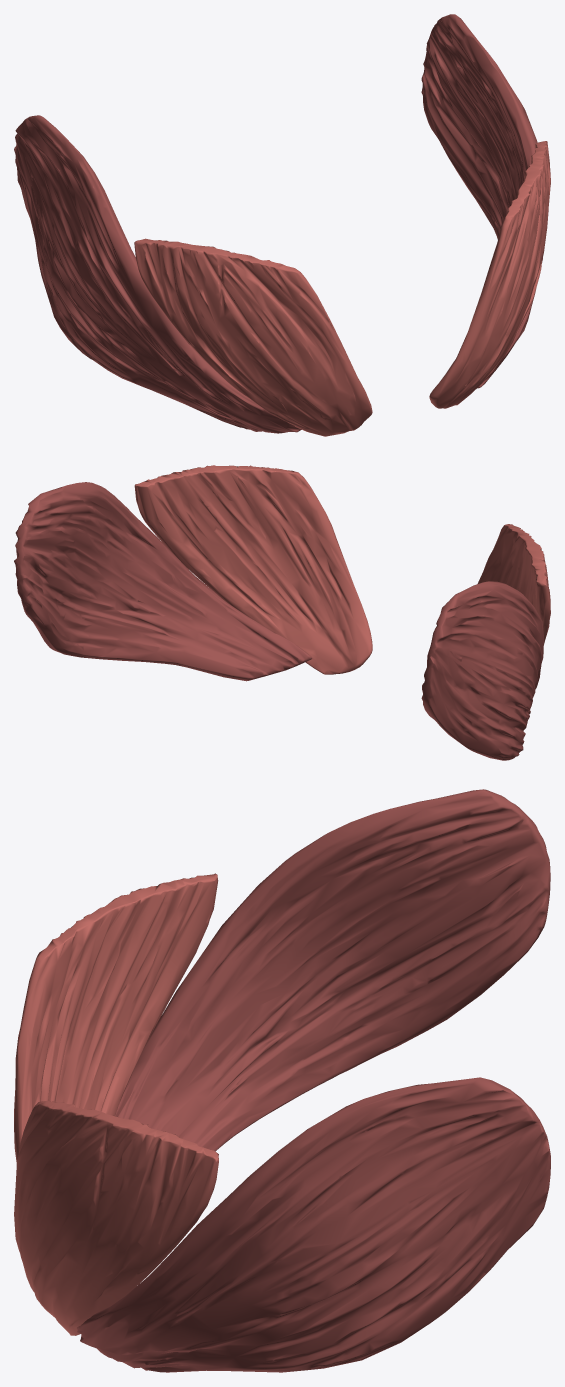
File: cricothyroid.glb
The picture shows the model from 3 angles, top to bottom: view 1: azimuth 30°, elevation 25°; view 2: azimuth 150°, elevation 25°; view 3: azimuth 270°, elevation 25°; orthographic projection. The views are drawn at different scales.
Visible parts, largest first — view 1: FMA46613, FMA46611, FMA46614, FMA46612; view 2: FMA46614, FMA46612, FMA46613, FMA46611; view 3: FMA46613, FMA46614, FMA46612, FMA46611.
Boxes of the visible parts, bbox=[...] form: FMA46613: bbox=[14, 115, 301, 433]; FMA46611: bbox=[134, 238, 372, 436]; FMA46614: bbox=[421, 14, 542, 388]; FMA46612: bbox=[429, 141, 550, 408]; FMA46614: bbox=[14, 482, 312, 681]; FMA46612: bbox=[134, 465, 372, 674]; FMA46613: bbox=[421, 581, 543, 760]; FMA46611: bbox=[477, 524, 550, 645]; FMA46613: bbox=[115, 789, 550, 1151]; FMA46614: bbox=[77, 1077, 550, 1372]; FMA46612: bbox=[14, 1100, 218, 1335]; FMA46611: bbox=[14, 873, 218, 1163].
Bounding box in the file's own units: 0.2503 × 0.1318 × 0.1799.
